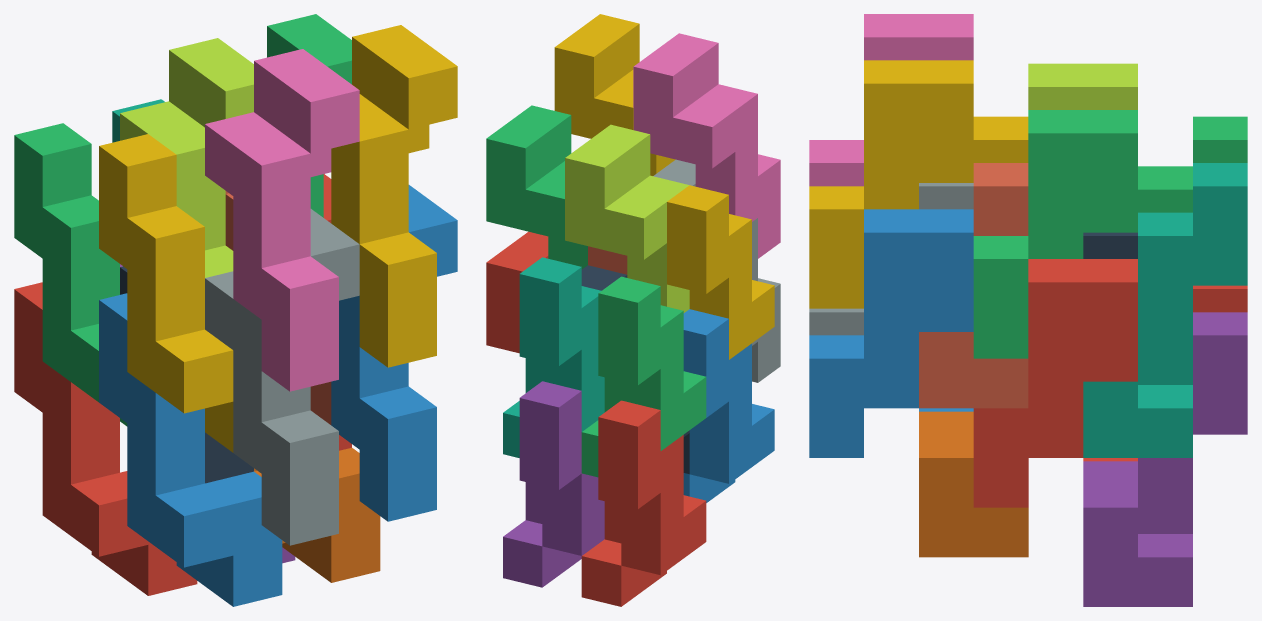
The model's file is tiling.obj.
The picture shows the model from 3 angles, left to right: view 1: azimuth 30°, elevation 25°; view 2: azimuth 150°, elevation 25°; view 3: azimuth 270°, elevation 25°; orthographic projection. The views are drawn at different scales.
Parts seen in each view (by area): view 1: copy_2_domain_4, copy_2_domain_8, copy_1_domain_4, copy_1_domain_2, copy_2_domain_2, copy_1_domain_1, copy_1_domain_3, copy_2_domain_6, copy_2_domain_3, copy_1_domain_6, copy_2_domain_7, copy_2_domain_1 (+1 smaller); view 2: copy_2_domain_4, copy_1_domain_1, copy_1_domain_5, copy_2_domain_3, copy_1_domain_3, copy_1_domain_4, copy_1_domain_2, copy_1_domain_7, copy_2_domain_7, copy_2_domain_8, copy_2_domain_5, copy_2_domain_2 (+2 smaller); view 3: copy_1_domain_7, copy_2_domain_6, copy_2_domain_5, copy_1_domain_5, copy_2_domain_7, copy_2_domain_8, copy_1_domain_8, copy_1_domain_6, copy_2_domain_4, copy_1_domain_3, copy_2_domain_3, copy_2_domain_2 (+3 smaller).
Boxes of the visible parts, left/top/right/bottom form: copy_2_domain_4: left=205, top=49, right=359, bottom=391; copy_2_domain_8: left=331, top=25, right=457, bottom=367; copy_1_domain_4: left=99, top=134, right=233, bottom=452; copy_1_domain_2: left=99, top=293, right=282, bottom=606; copy_2_domain_2: left=205, top=209, right=359, bottom=545; copy_1_domain_1: left=14, top=282, right=197, bottom=595; copy_1_domain_3: left=14, top=123, right=127, bottom=426; copy_2_domain_6: left=331, top=185, right=457, bottom=521; copy_2_domain_3: left=120, top=38, right=253, bottom=277; copy_1_domain_6: left=254, top=447, right=380, bottom=582; copy_2_domain_7: left=267, top=14, right=351, bottom=217; copy_2_domain_1: left=120, top=266, right=253, bottom=483; copy_2_domain_4: left=633, top=33, right=780, bottom=258; copy_1_domain_1: left=581, top=400, right=706, bottom=606; copy_1_domain_5: left=503, top=381, right=604, bottom=587; copy_2_domain_3: left=565, top=124, right=689, bottom=312; copy_1_domain_3: left=581, top=276, right=706, bottom=477; copy_1_domain_4: left=667, top=185, right=774, bottom=359; copy_1_domain_2: left=683, top=309, right=774, bottom=502; copy_1_domain_7: left=503, top=257, right=604, bottom=457; copy_2_domain_7: left=486, top=105, right=587, bottom=269; copy_2_domain_8: left=554, top=14, right=675, bottom=175; copy_2_domain_5: left=486, top=231, right=548, bottom=353; copy_2_domain_2: left=653, top=159, right=780, bottom=382; copy_1_domain_7: left=1083, top=163, right=1247, bottom=457; copy_2_domain_6: left=809, top=209, right=973, bottom=457; copy_2_domain_5: left=973, top=259, right=1137, bottom=507; copy_1_domain_5: left=1083, top=312, right=1247, bottom=606; copy_2_domain_7: left=973, top=110, right=1137, bottom=358; copy_2_domain_8: left=809, top=60, right=973, bottom=308; copy_1_domain_8: left=919, top=163, right=1028, bottom=408; copy_1_domain_6: left=919, top=411, right=1028, bottom=557; copy_2_domain_4: left=809, top=14, right=973, bottom=186; copy_1_domain_3: left=1138, top=116, right=1247, bottom=212; copy_2_domain_3: left=1028, top=63, right=1137, bottom=109; copy_2_domain_2: left=809, top=183, right=973, bottom=335.
Bounding box in the file's own units: 5 × 11 × 8.
